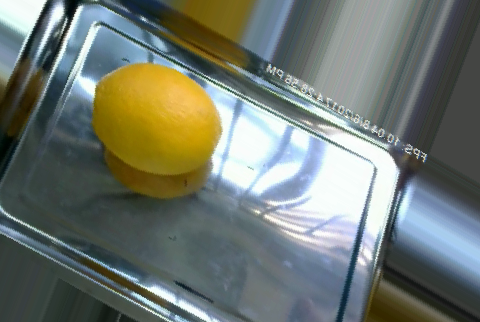Orange: (91, 60, 221, 175)
